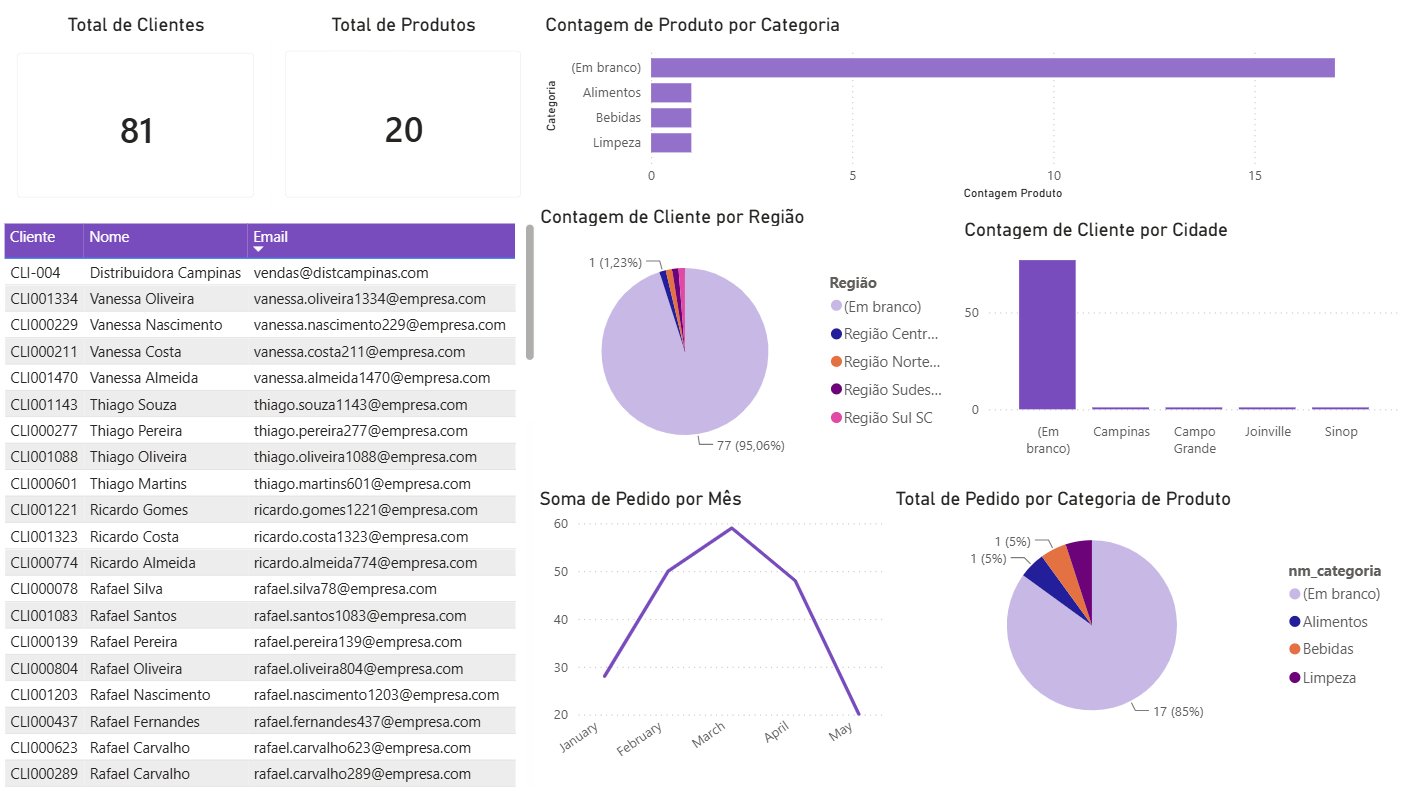

This screenshot's page, from the dashboard's own definition file:
{"tool":"powerbi","page":{"name":"Dashboard","canvas":[1280,720],"ordinal":0},"visuals":[{"type":"tableEx","fields":{"Values":["cliente.cd_cliente","cliente.nm_cliente","cliente.ds_email"]},"box":[0,198.2,492.7,521.6],"z":0},{"type":"cardVisual","title":"Total de Clientes","fields":{"Data":["Count(cliente.cd_cliente)"]},"box":[0,12.2,250.7,185.9],"z":1000},{"type":"columnChart","title":"Contagem de Cliente por Cidade","fields":{"Category":["regiao.nm_cidade"],"Y":["CountNonNull(cliente.cd_cliente)"]},"box":[874,198.2,406,224.9],"z":2000},{"type":"pieChart","title":"Contagem de Clientepor Região","fields":{"Category":["regiao.nm_regiao"],"Y":["CountNonNull(cliente.cd_registro_origem)"]},"box":[488.4,186.4,385.6,247.4],"z":3000},{"type":"cardVisual","title":"Total de Produtos","fields":{"Data":["Count(produto.cd_produto)"]},"box":[243.2,12.2,249.8,185.9],"z":4000},{"type":"lineChart","title":"Soma de Pedido por Mês","fields":{"Category":["pedido.dt_emissao.Variação.Date Hierarchy.Month"],"Y":["Count(pedido.id_pedido)"]},"box":[487.4,442.4,323.5,268.9],"z":5000},{"type":"pieChart","title":"Total de Pedido por Categoria  de Produto","fields":{"Category":["categoria_produto.nm_categoria"],"Y":["CountNonNull(produto.id_produto)"]},"box":[810.8,442.4,469.2,232.4],"z":6000},{"type":"barChart","title":"Contagem de Produto por Categoria","fields":{"Category":["categoria_produto.nm_categoria"],"Y":["Count(produto.id_produto)"]},"box":[492.7,11.8,771.2,174.6],"z":7000}]}

Visuals, with their boxes in screenshot pixels (x1, y1, x2, y2), scaled from the page's 1280x720 canvas onto the 1405x791 screenshot:
tableEx - cliente.cd_cliente x cliente.nm_cliente: Rect(0, 218, 541, 790)
"Total de Clientes" cardVisual: Rect(0, 13, 275, 218)
"Contagem de Cliente por Cidade" columnChart: Rect(959, 218, 1404, 465)
"Contagem de Clientepor Região" pieChart: Rect(536, 205, 959, 477)
"Total de Produtos" cardVisual: Rect(267, 13, 541, 218)
"Soma de Pedido por Mês" lineChart: Rect(535, 486, 890, 781)
"Total de Pedido por Categoria  de Produto" pieChart: Rect(890, 486, 1404, 741)
"Contagem de Produto por Categoria" barChart: Rect(541, 13, 1387, 205)
